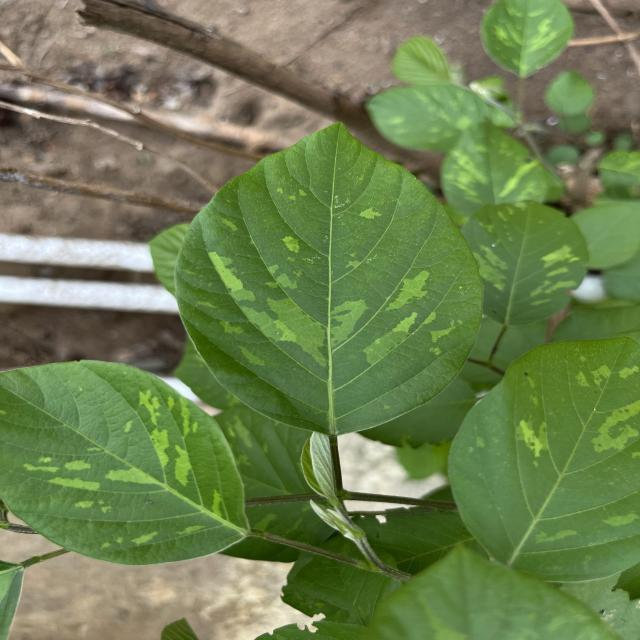Desmodium gangeticum: (168, 118, 488, 442), (1, 356, 254, 568)
